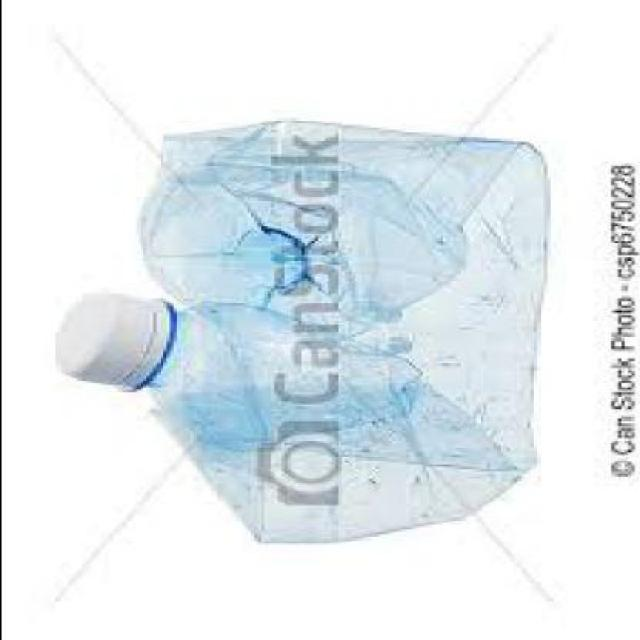PLASTIC: (51, 123, 546, 546), (47, 294, 168, 389)
